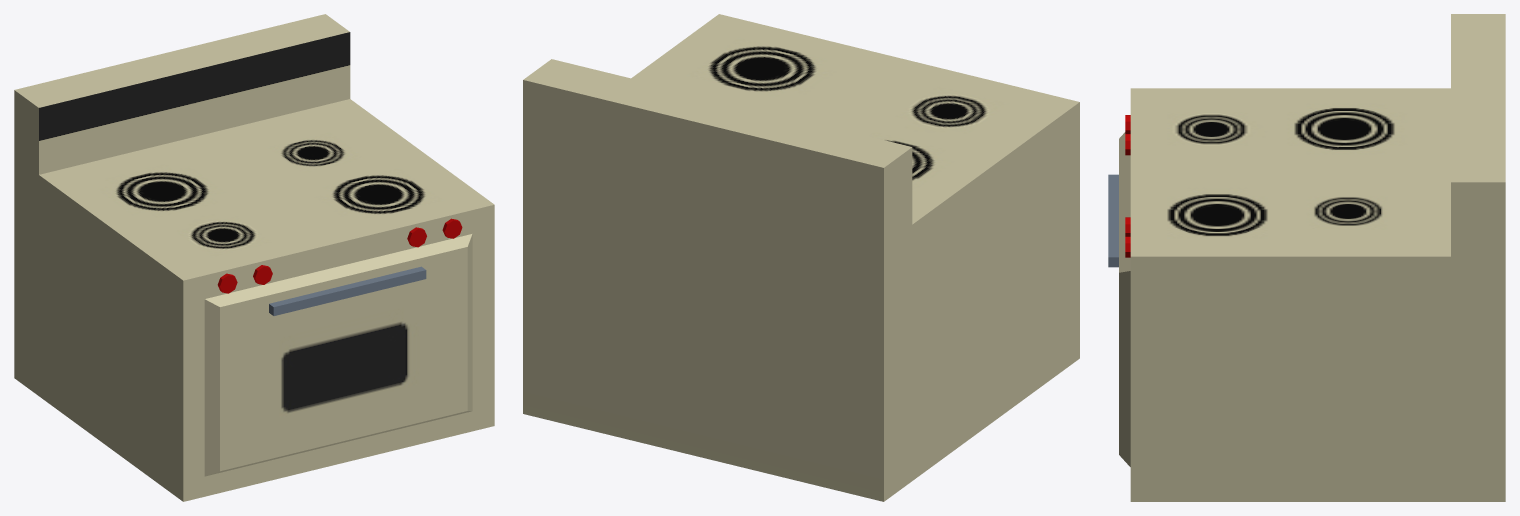
Rendered from oven.fbx.
The picture shows the model from 3 angles, left to right: view 1: azimuth 30°, elevation 25°; view 2: azimuth 150°, elevation 25°; view 3: azimuth 270°, elevation 25°; orthographic projection. The views are drawn at different scales.
Parts seen in each view (by area): view 1: polySurface1; view 2: polySurface1; view 3: polySurface1.
Part boxes in pixels (x1=…): polySurface1: x1=14, y1=14, x2=494, y2=501; polySurface1: x1=523, y1=14, x2=1079, y2=501; polySurface1: x1=1108, y1=14, x2=1505, y2=501.
Size of the model in its own units: 1.74 by 1.54 by 1.73.
